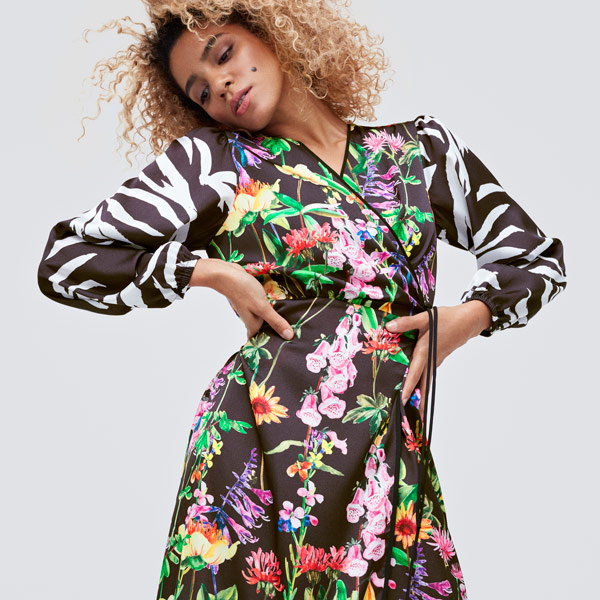C_dress: (64, 132, 558, 591)
